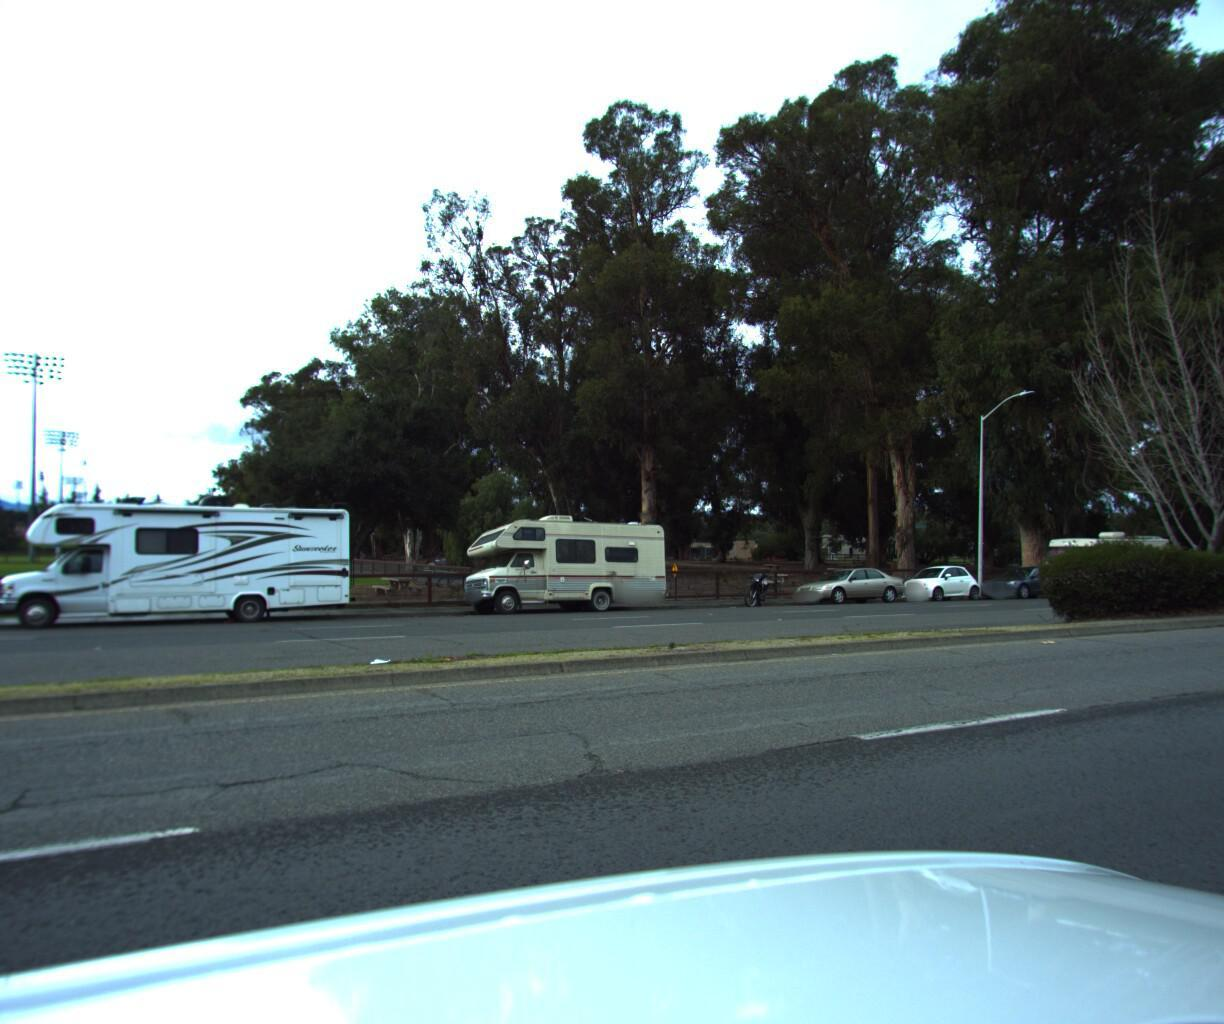car: (783, 563, 909, 606), (968, 559, 1079, 600), (888, 556, 983, 601)
motorcycle: (735, 563, 780, 605)
other_vehicle: (448, 504, 675, 617), (1027, 522, 1175, 594)
